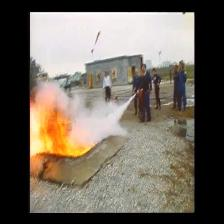fire: (30, 92, 92, 159)
smoke: (37, 78, 136, 145)
